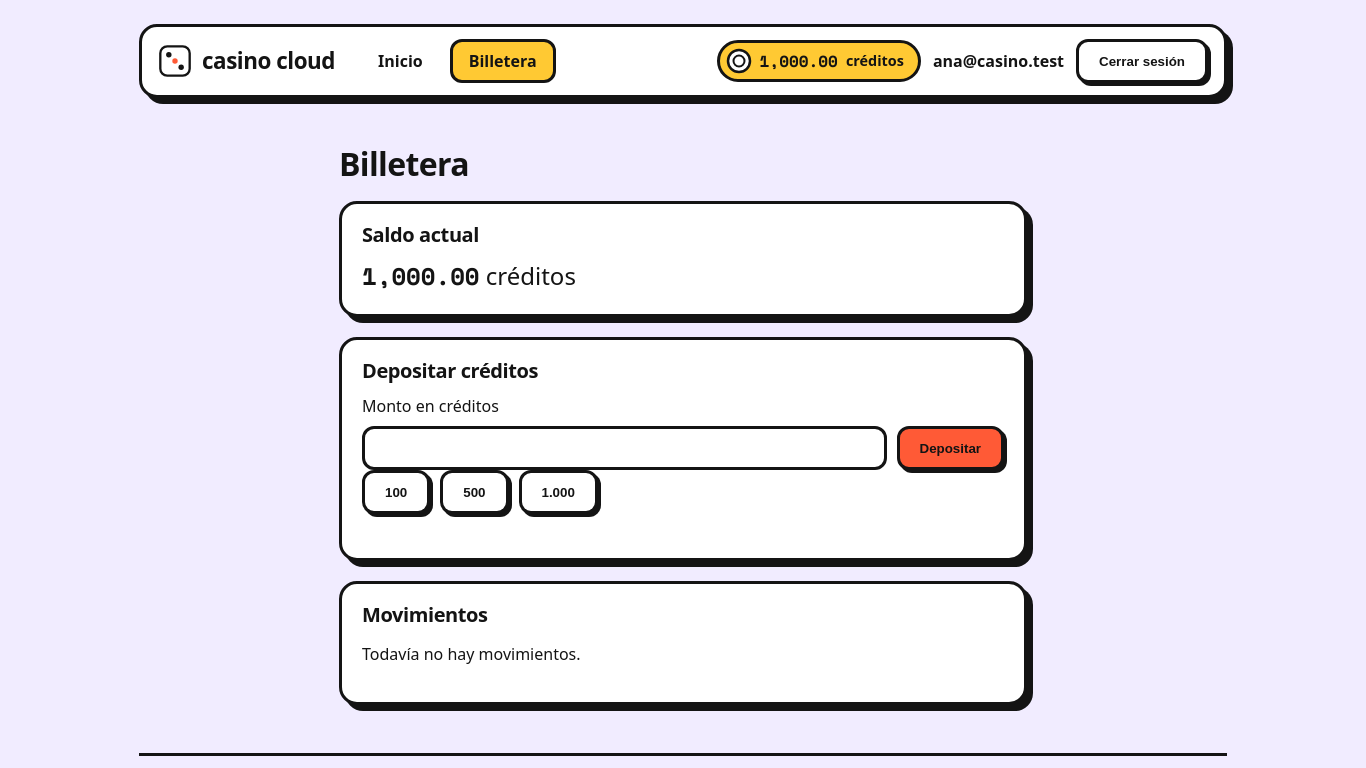
Test: WalletPage › deposits, then updates the balance, the header chip and the history
This screenshot has width=1366, height=768.
Expected: the text "1,000.00" below "Saldo actual" is shown, [362, 258, 480, 294]
Expected: the text "Todavía no hay movimientos." is shown, [362, 643, 581, 665]
In the field labelled "Monto en créditos": point(624, 448) [362, 426, 886, 470], type "12.34"
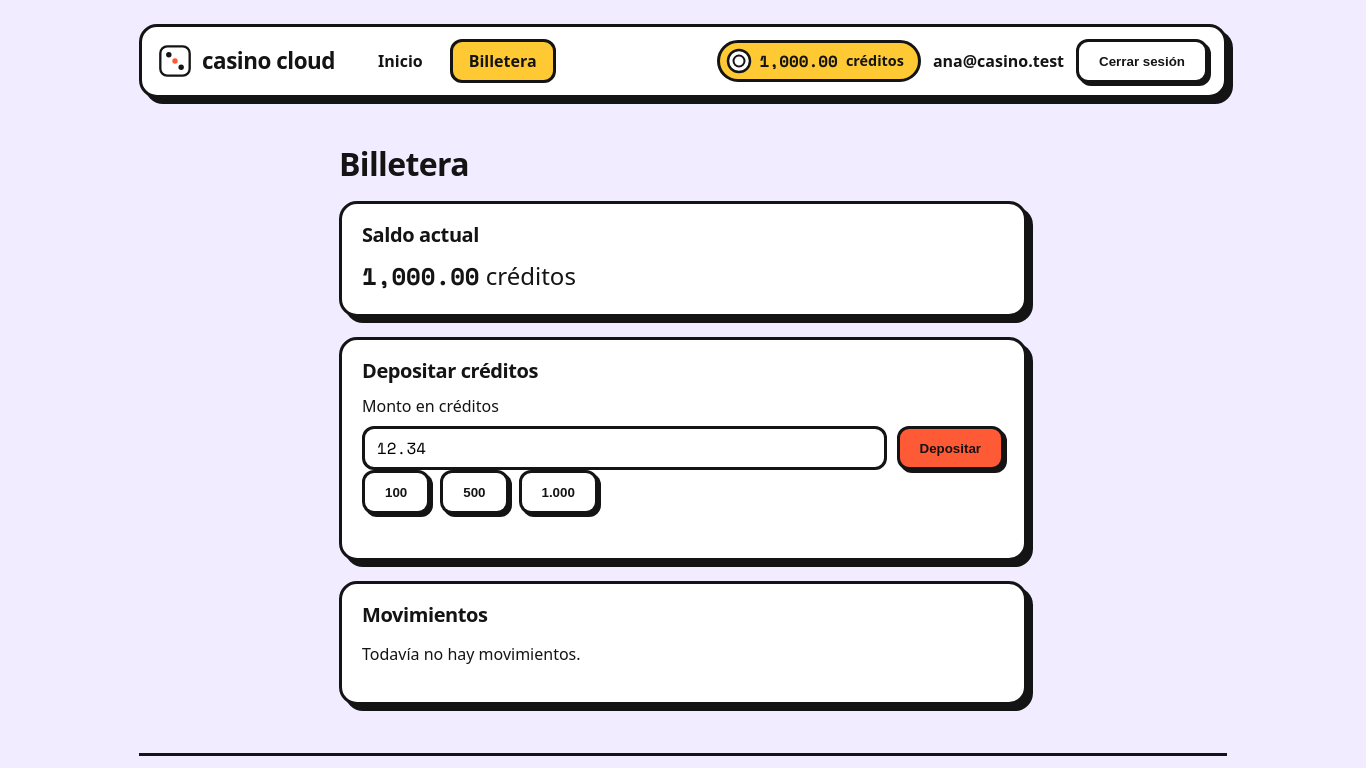
Click the button "Depositar": point(950, 448) [896, 426, 1004, 470]
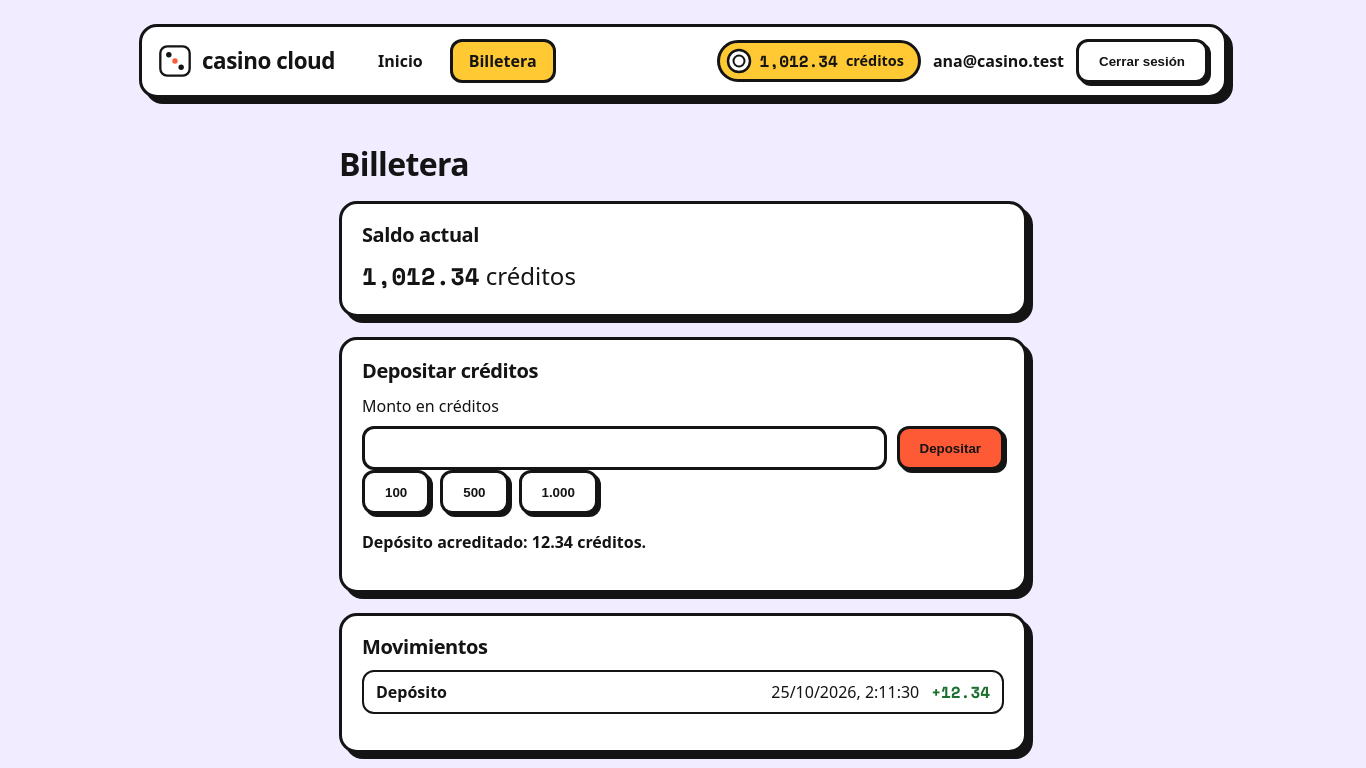
Expected: the text "1,012.34" below "Saldo actual" is shown, [362, 258, 480, 294]
Expected: the text "1,012.34" in the row of "ana@casino.test" is shown, [760, 49, 838, 73]
Expected: the number of list items is 1, [362, 670, 1004, 714]
